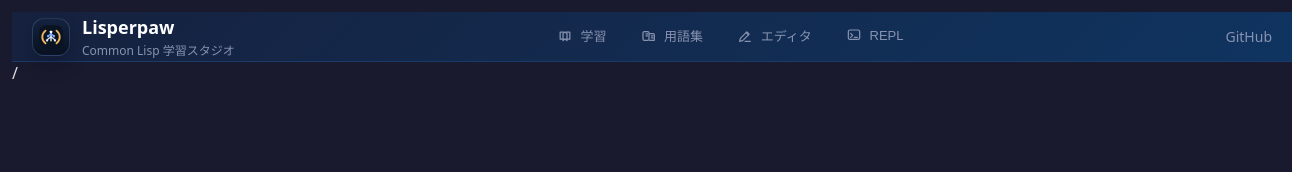
Test: Header › 用語集ボタンをクリックすると用語集ページへ移動する
This screenshot has width=1292, height=172.
Click the button "用語集" at (672, 37), box left=625, top=19, right=718, bottom=54
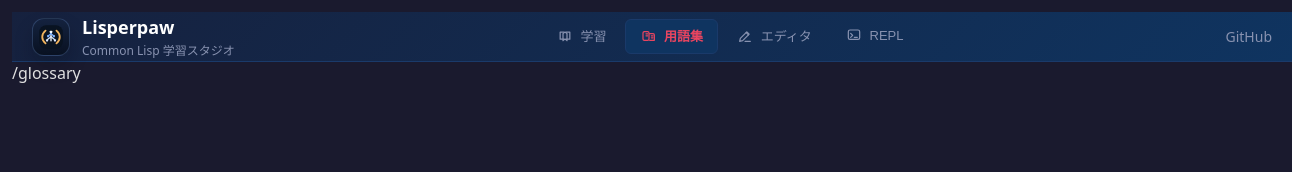
Expected: the text with test id "location-path" reads "/glossary", left=12, top=62, right=81, bottom=84
